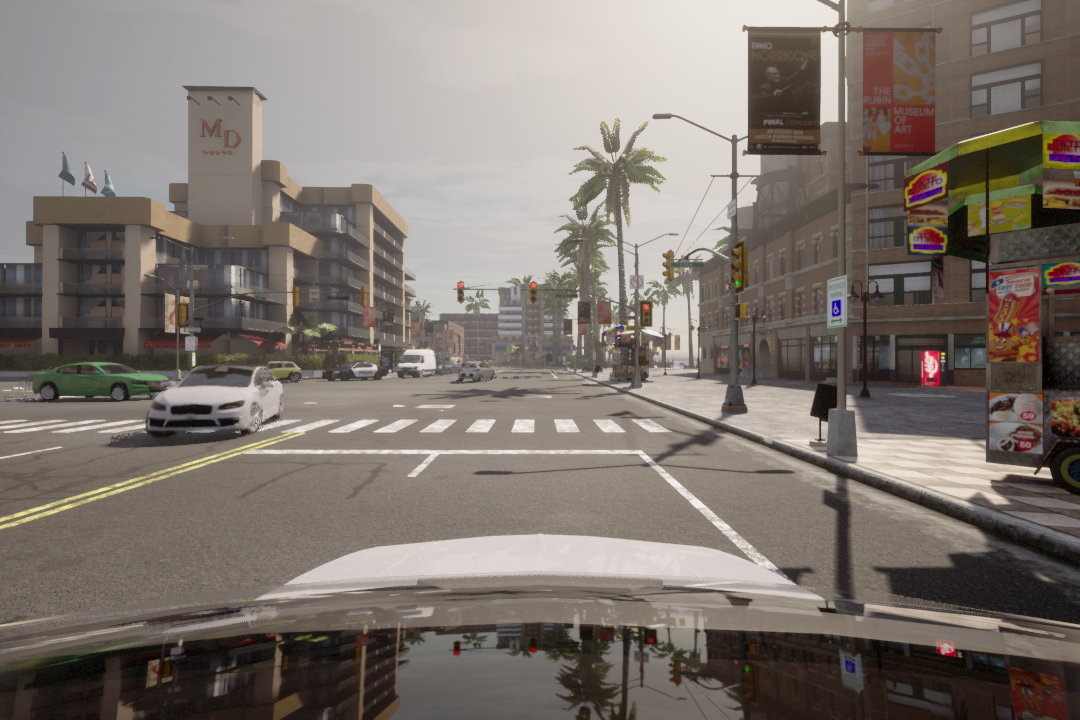TrafficLight: (727, 241, 751, 297), (660, 248, 674, 280), (454, 277, 466, 304), (529, 276, 540, 305), (641, 301, 651, 324)
TrafficSign: (629, 276, 648, 287)
walkside: (1, 416, 703, 437)
